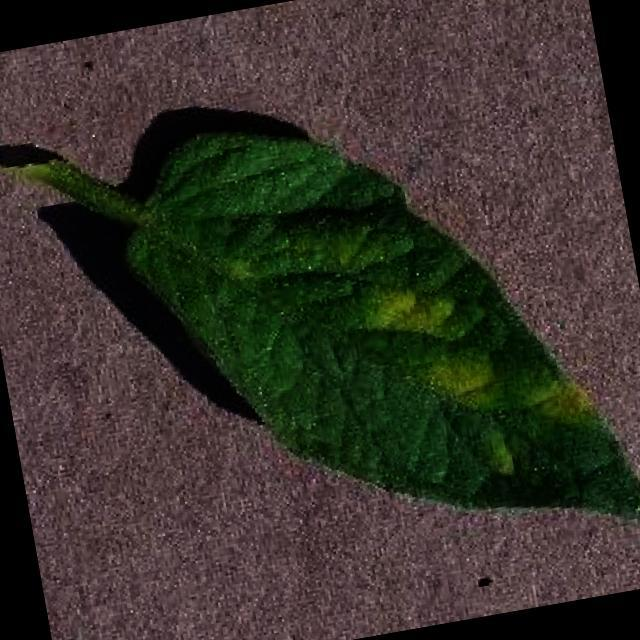Tomato mold leaf: (110, 60, 640, 605)
